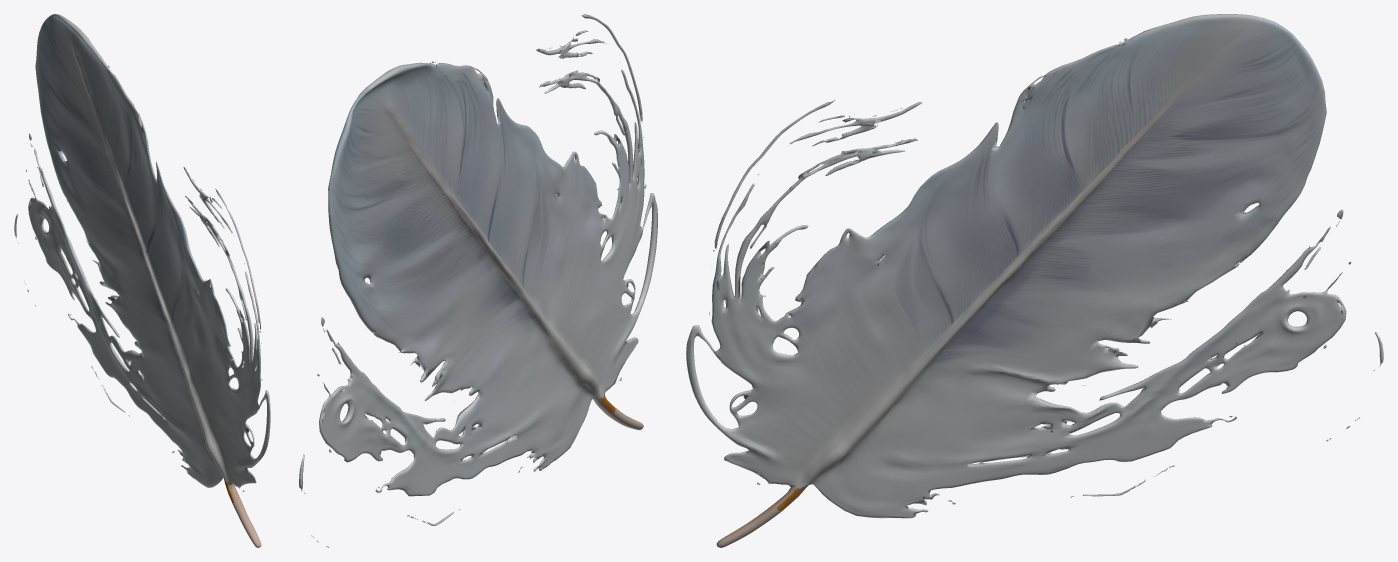
File: seeds.fbx
3 views of the same model, side by side, from view 1: azimuth 30°, elevation 25°; view 2: azimuth 150°, elevation 25°; view 3: azimuth 270°, elevation 25° (orthographic). The views are drawn at different scales.
Parts seen in each view (by area): view 1: tripo_node_3d28e3d0; view 2: tripo_node_3d28e3d0; view 3: tripo_node_3d28e3d0.
Part boxes in pixels (x1,y1,x2,y2): tripo_node_3d28e3d0: [14, 14, 270, 547]; tripo_node_3d28e3d0: [299, 14, 657, 547]; tripo_node_3d28e3d0: [686, 14, 1383, 547].
Size of the model in its own units: 3.75 by 83.81 by 99.68.
1 material, 1 textured.
